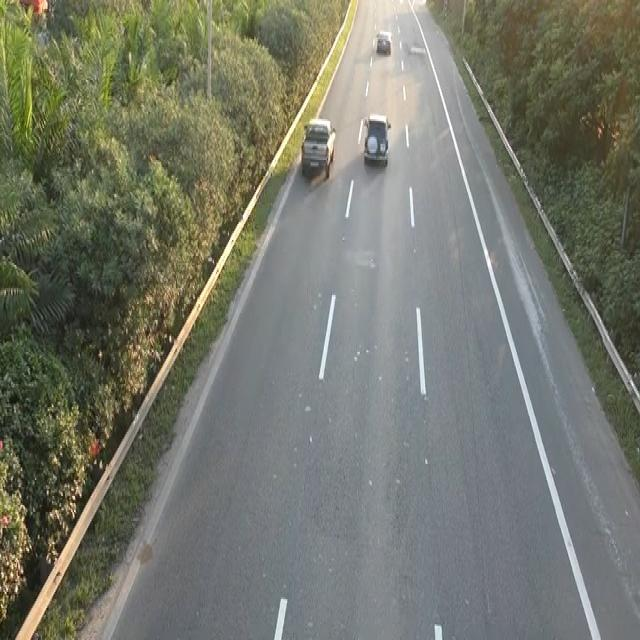bus: (374, 29, 392, 55)
car: (299, 114, 339, 185), (361, 110, 391, 167)
